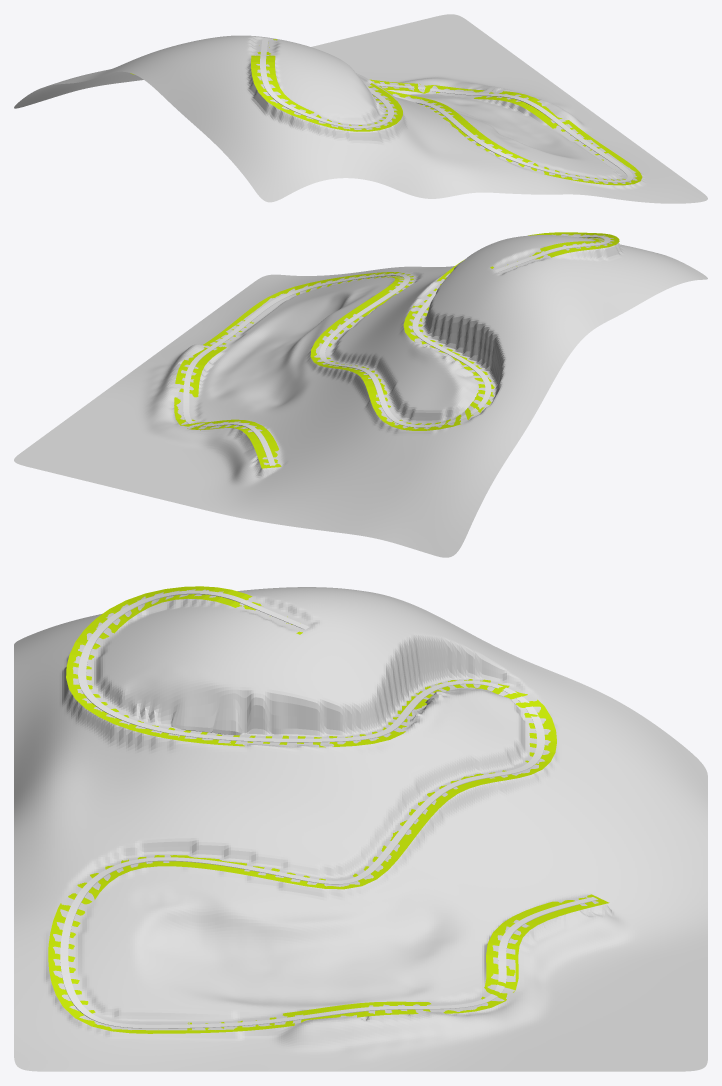
The model's file is 3 blendershorttests_23_road.fbx.
3 renders of one model, top to bottom at view 1: azimuth 30°, elevation 25°; view 2: azimuth 150°, elevation 25°; view 3: azimuth 270°, elevation 25°, orthographic. The views are drawn at different scales.
Parts seen in each view (by area): view 1: Grid, Plane.001, Plane; view 2: Grid, Plane.001, Plane; view 3: Grid, Plane.001, Plane.
Boxes of the visible parts, x1,y1,x2,y2 form: Grid: (14, 14, 707, 203); Plane.001: (130, 39, 642, 185); Plane: (260, 39, 633, 182); Grid: (14, 234, 707, 557); Plane.001: (174, 232, 619, 468); Plane: (183, 235, 610, 465); Grid: (14, 587, 707, 1071); Plane.001: (48, 586, 609, 1033); Plane: (60, 590, 598, 1028).
Bounding box in the file's own units: 800 × 295 × 800.
